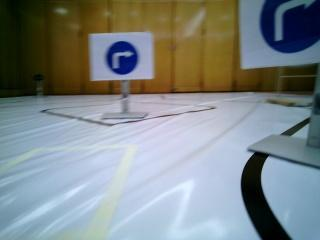right: (243, 0, 320, 64), (94, 33, 154, 80)
